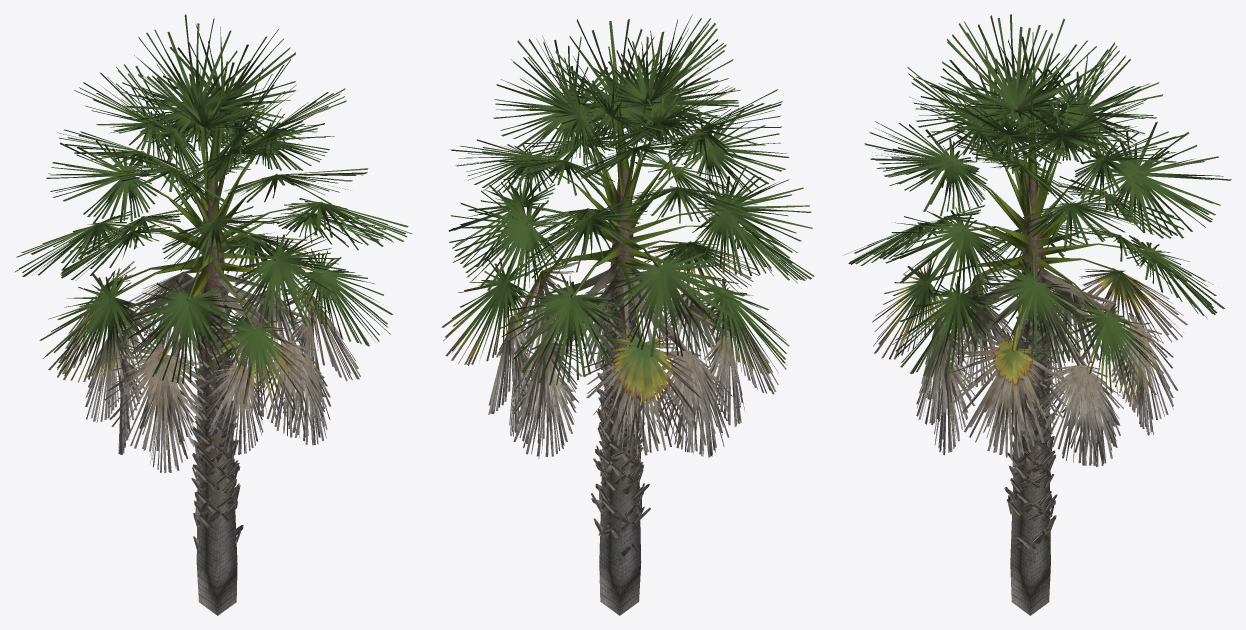
The model's file is fanpalm_cal1.glb.
3 views of the same model, side by side, from view 1: azimuth 30°, elevation 25°; view 2: azimuth 150°, elevation 25°; view 3: azimuth 270°, elevation 25° (orthographic). The views are drawn at different scales.
Visible parts, largest first — view 1: Washingtonia_filifera_HD_w; view 2: Washingtonia_filifera_HD_w; view 3: Washingtonia_filifera_HD_w.
Part boxes in pixels (x1=…): Washingtonia_filifera_HD_w: x1=14, y1=14, x2=412, y2=615; Washingtonia_filifera_HD_w: x1=441, y1=14, x2=814, y2=615; Washingtonia_filifera_HD_w: x1=843, y1=14, x2=1231, y2=615.
Size of the model in its own units: 6.76 by 11 by 6.91.
11 materials, 11 textured.
